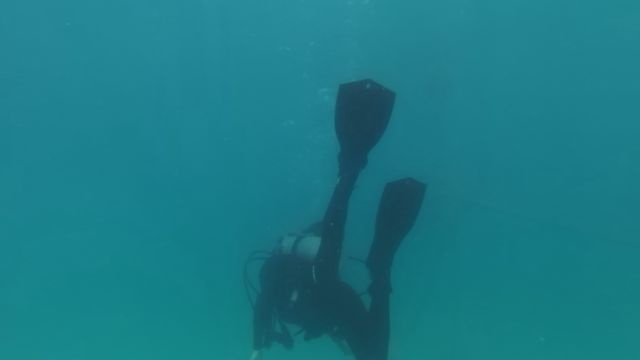Diver: (240, 72, 446, 359)
